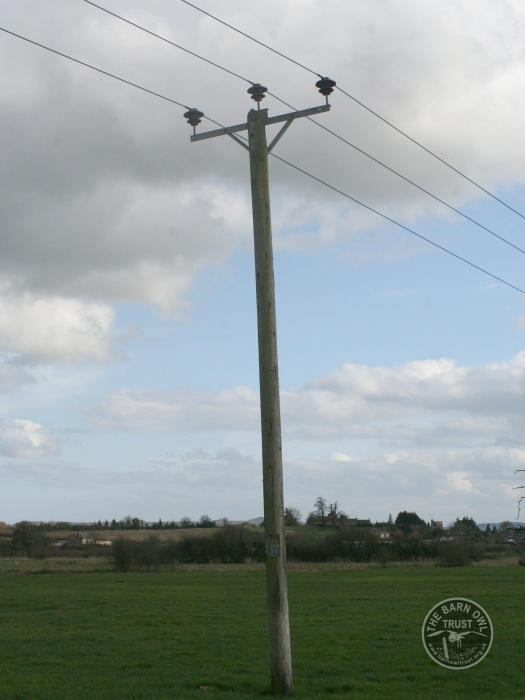utility_pole: (168, 59, 345, 201)
